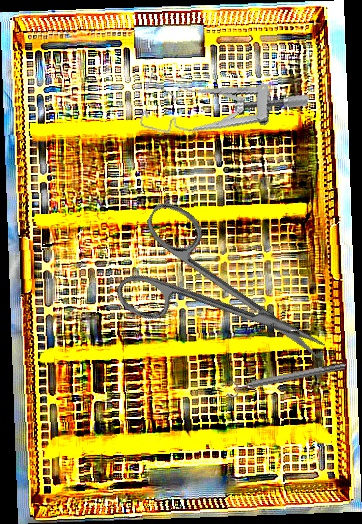Fixation Ring: (224, 356, 348, 400)
Iris Scissors: (103, 196, 349, 405)
Speculum: (137, 57, 310, 163)
